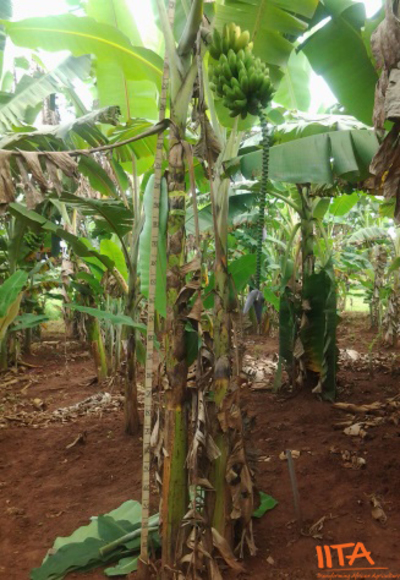bananaHand: (206, 21, 277, 121)
